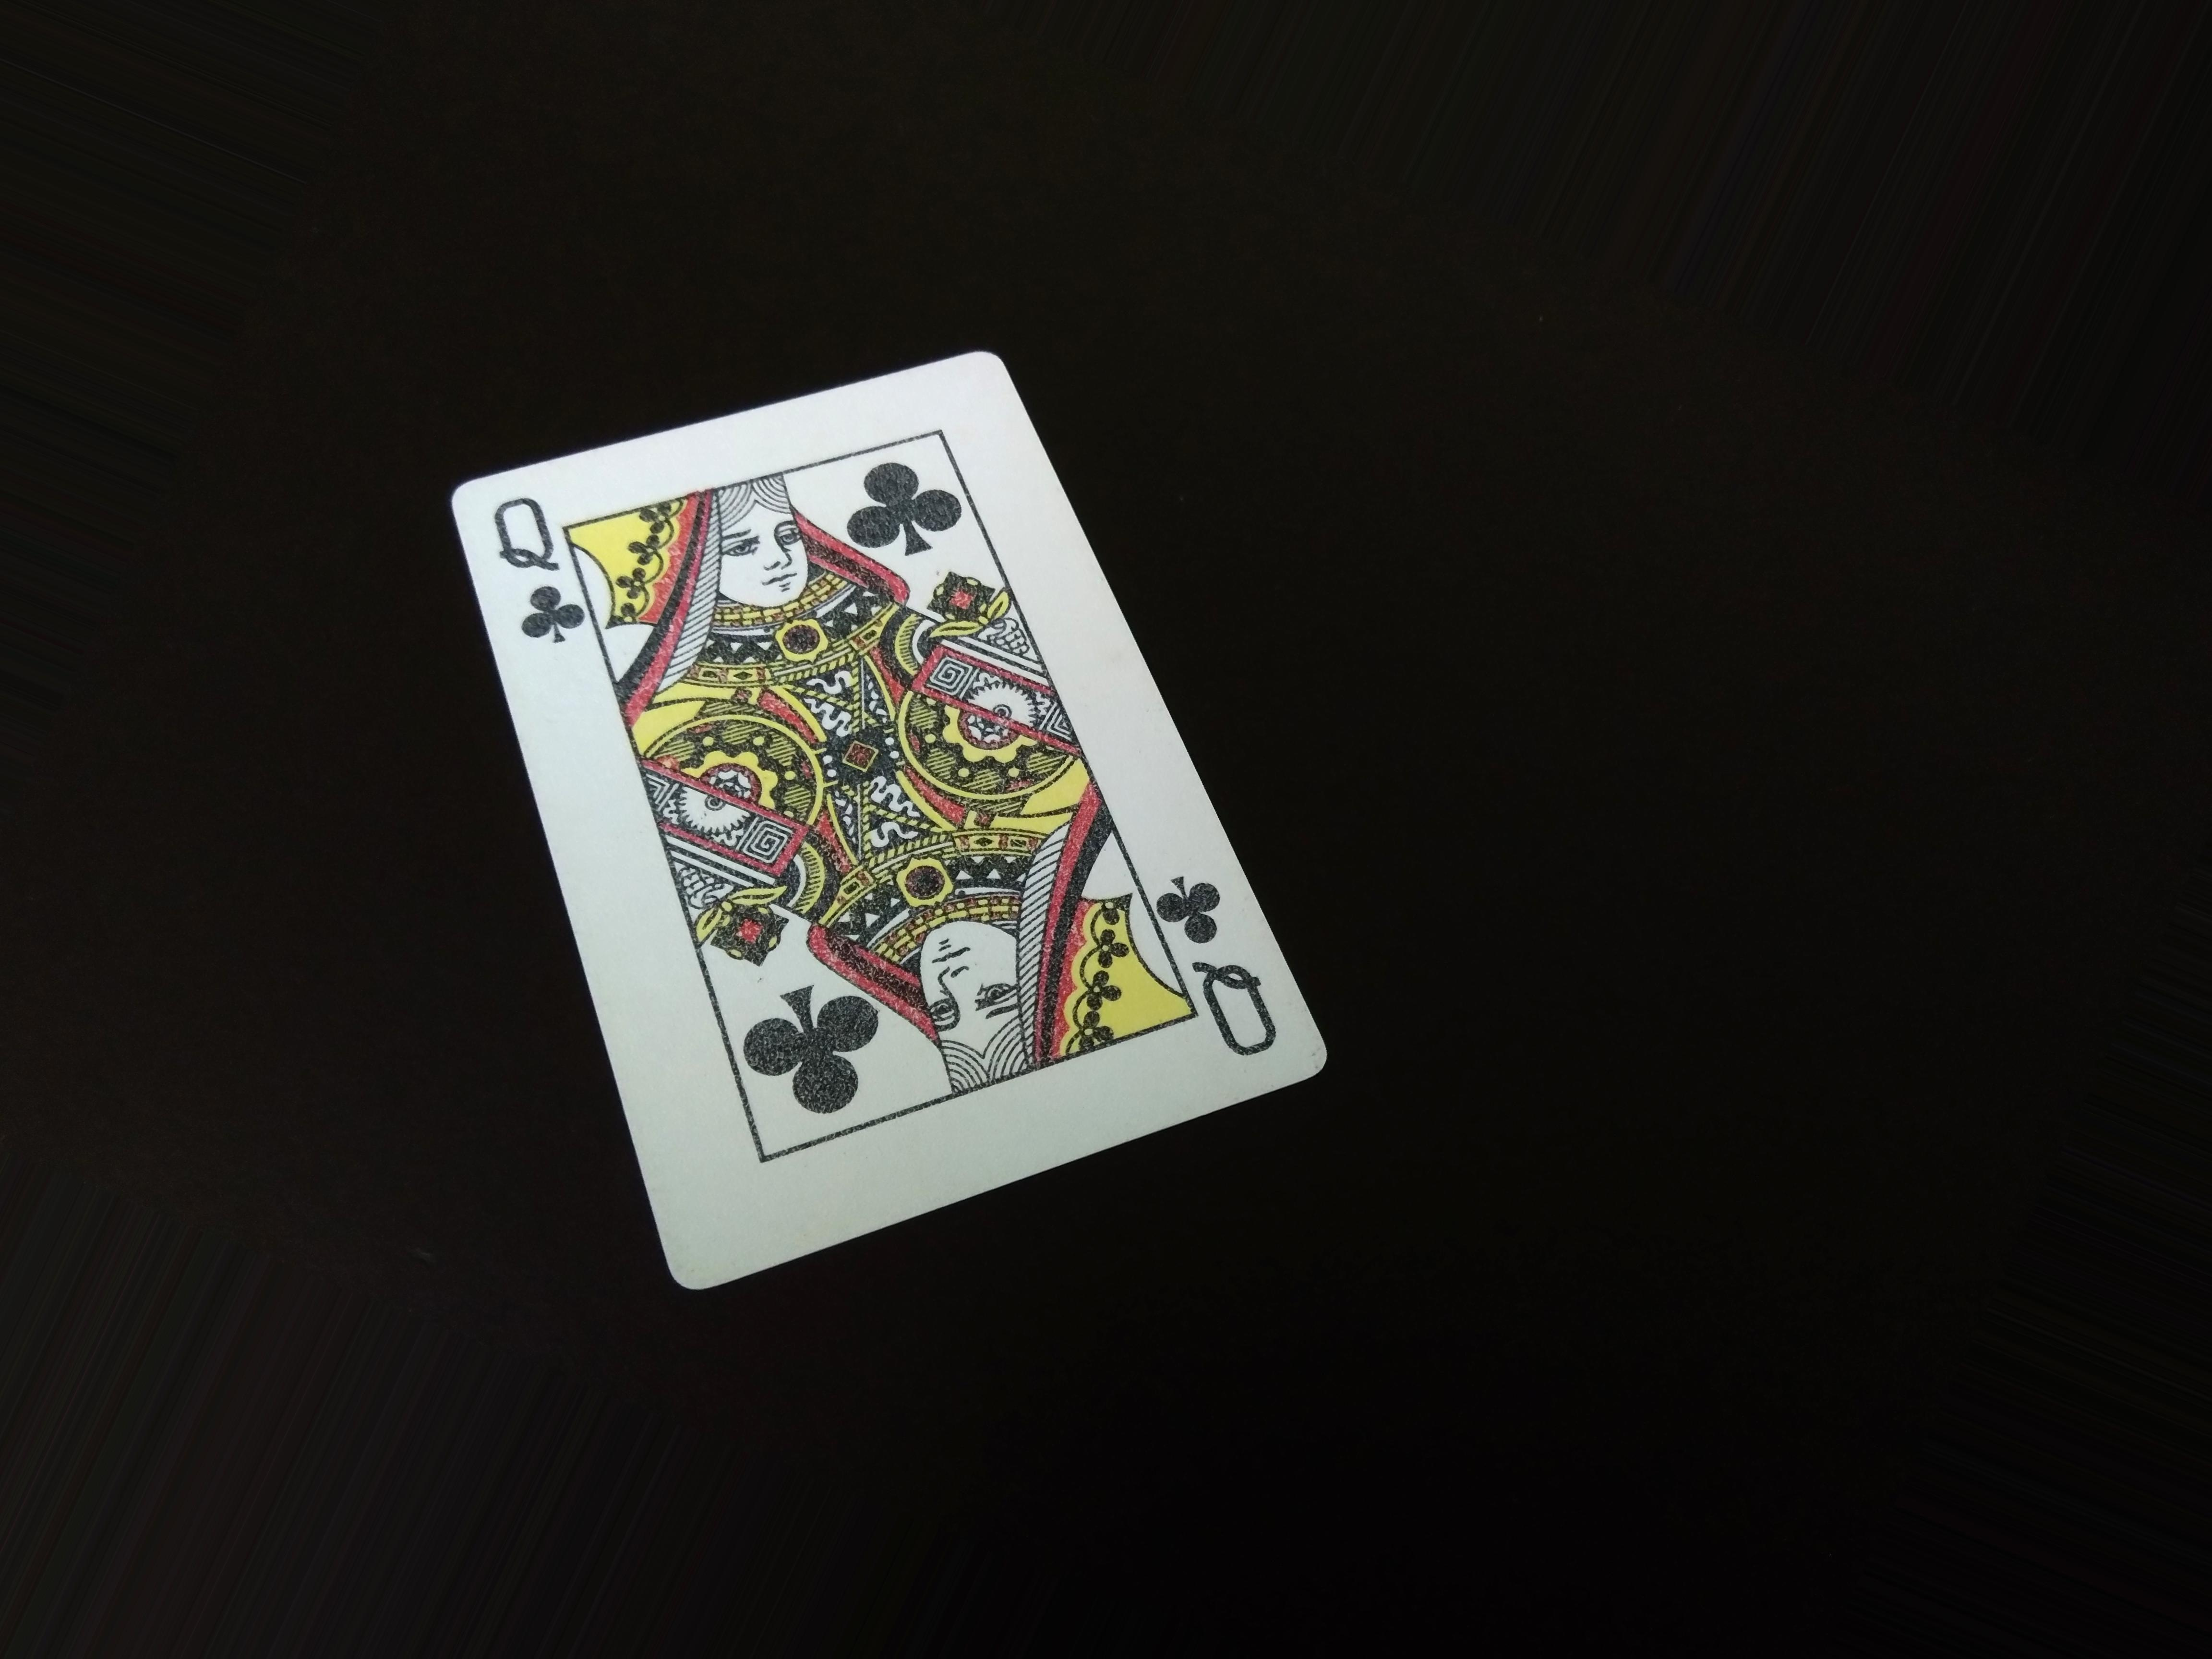QC: (479, 490, 585, 660)
